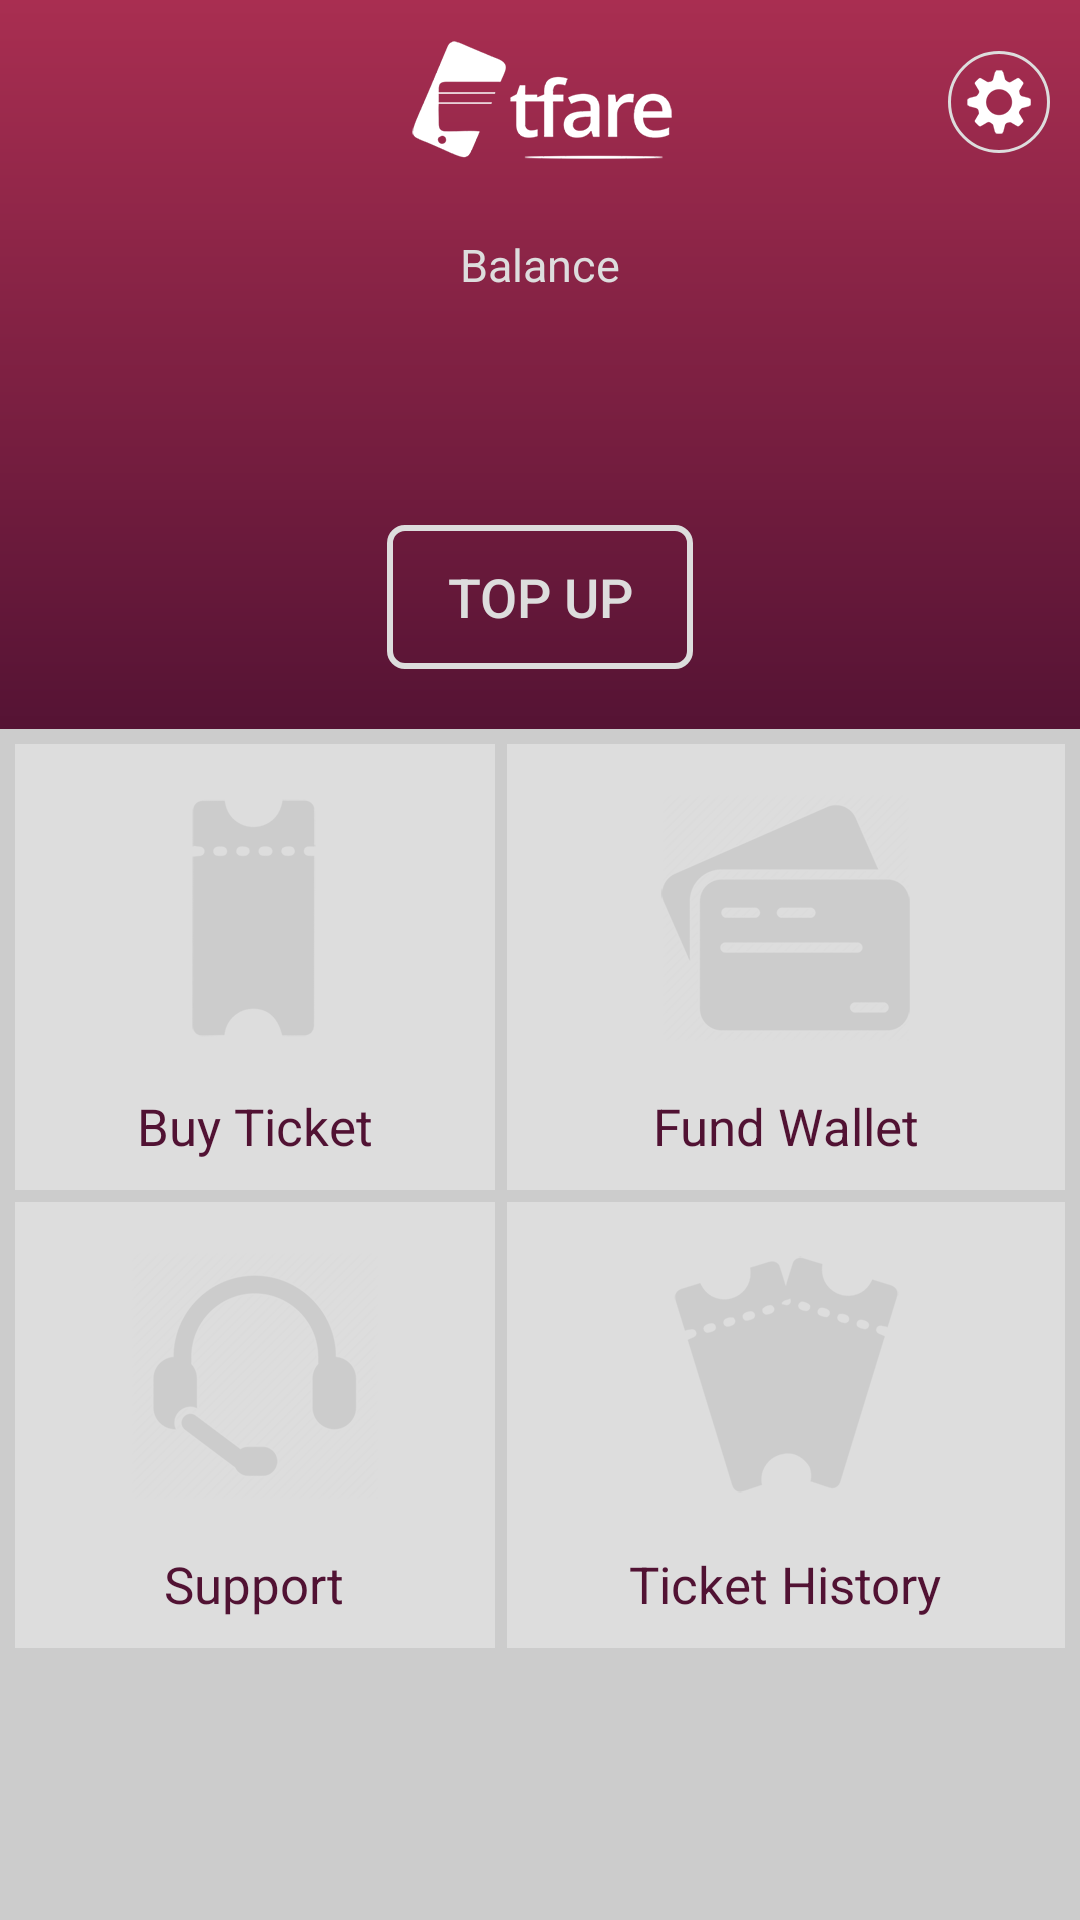

Screen size 1080 × 1920. Icon name, then its center in pixels as (x,y):
settings: (999,102)
